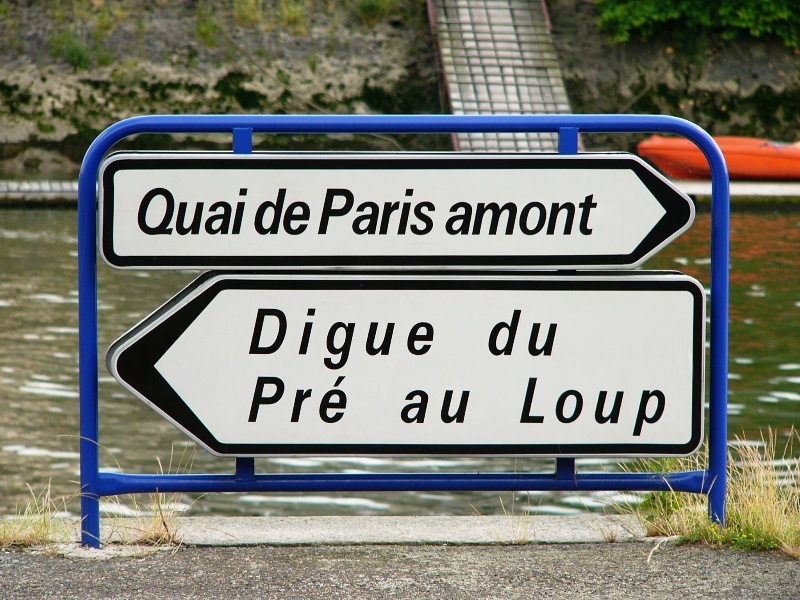text: (257, 307, 272, 370), (273, 307, 288, 370), (289, 307, 304, 370), (305, 307, 320, 370), (321, 307, 336, 370), (337, 307, 352, 370), (353, 307, 368, 370), (369, 307, 384, 370), (385, 307, 400, 370), (401, 307, 416, 370), (417, 307, 432, 370), (529, 377, 544, 438), (545, 377, 560, 438), (561, 377, 576, 438), (577, 377, 592, 438), (593, 377, 608, 438), (609, 377, 624, 438), (625, 377, 640, 438), (641, 377, 656, 438), (145, 187, 160, 236), (161, 187, 176, 236), (177, 187, 192, 236), (193, 187, 208, 236), (209, 187, 224, 236), (225, 187, 240, 236), (273, 187, 288, 236), (289, 187, 304, 236), (257, 375, 272, 424), (273, 375, 288, 424), (289, 375, 304, 424), (305, 375, 320, 424), (321, 375, 336, 424), (657, 377, 669, 438), (337, 188, 352, 236), (353, 188, 368, 236), (369, 188, 384, 236), (385, 188, 400, 236), (401, 188, 416, 236), (417, 188, 432, 236), (497, 309, 512, 357), (513, 309, 528, 357), (529, 309, 544, 357), (258, 187, 272, 236), (465, 193, 480, 236), (481, 193, 496, 236), (497, 193, 512, 236), (513, 193, 528, 236), (529, 193, 544, 236), (545, 193, 560, 236), (561, 193, 576, 236), (577, 193, 592, 236), (545, 309, 558, 357), (337, 375, 349, 424), (417, 390, 432, 424), (433, 390, 448, 424), (449, 390, 464, 424), (248, 307, 256, 370), (305, 187, 315, 236), (453, 193, 464, 236), (241, 187, 250, 236), (327, 188, 336, 236), (404, 390, 416, 424), (248, 375, 256, 424), (433, 188, 441, 236), (488, 309, 496, 357), (465, 390, 472, 424), (593, 193, 598, 236), (433, 307, 436, 370), (141, 187, 144, 236)
